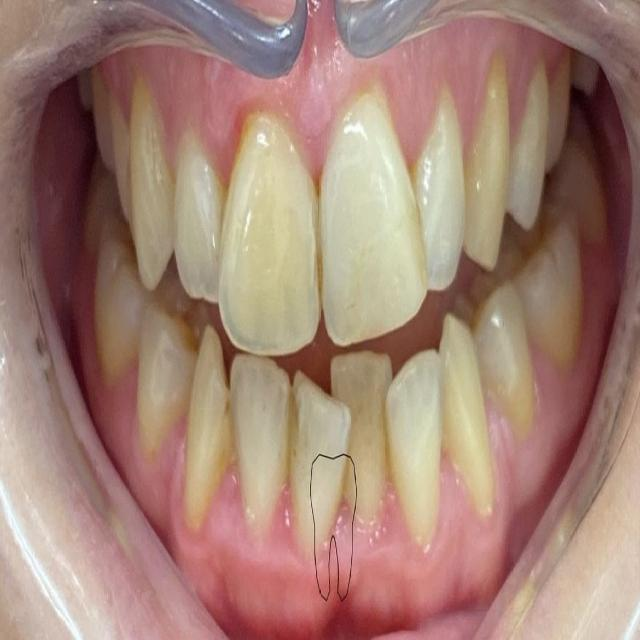tooth: (306, 88, 430, 357), (230, 106, 320, 369), (428, 306, 499, 538), (150, 327, 239, 503), (221, 342, 293, 528), (331, 360, 399, 535), (411, 104, 467, 299), (465, 56, 515, 270), (492, 306, 550, 452), (126, 119, 172, 299), (172, 144, 222, 306), (302, 399, 346, 552), (396, 364, 435, 520)
